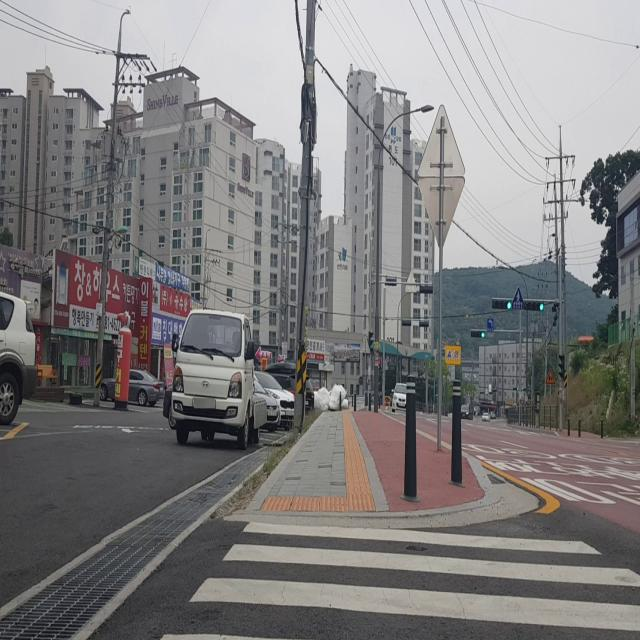빨간불: (378, 358, 383, 372)
횡단보도: (158, 518, 640, 640)
